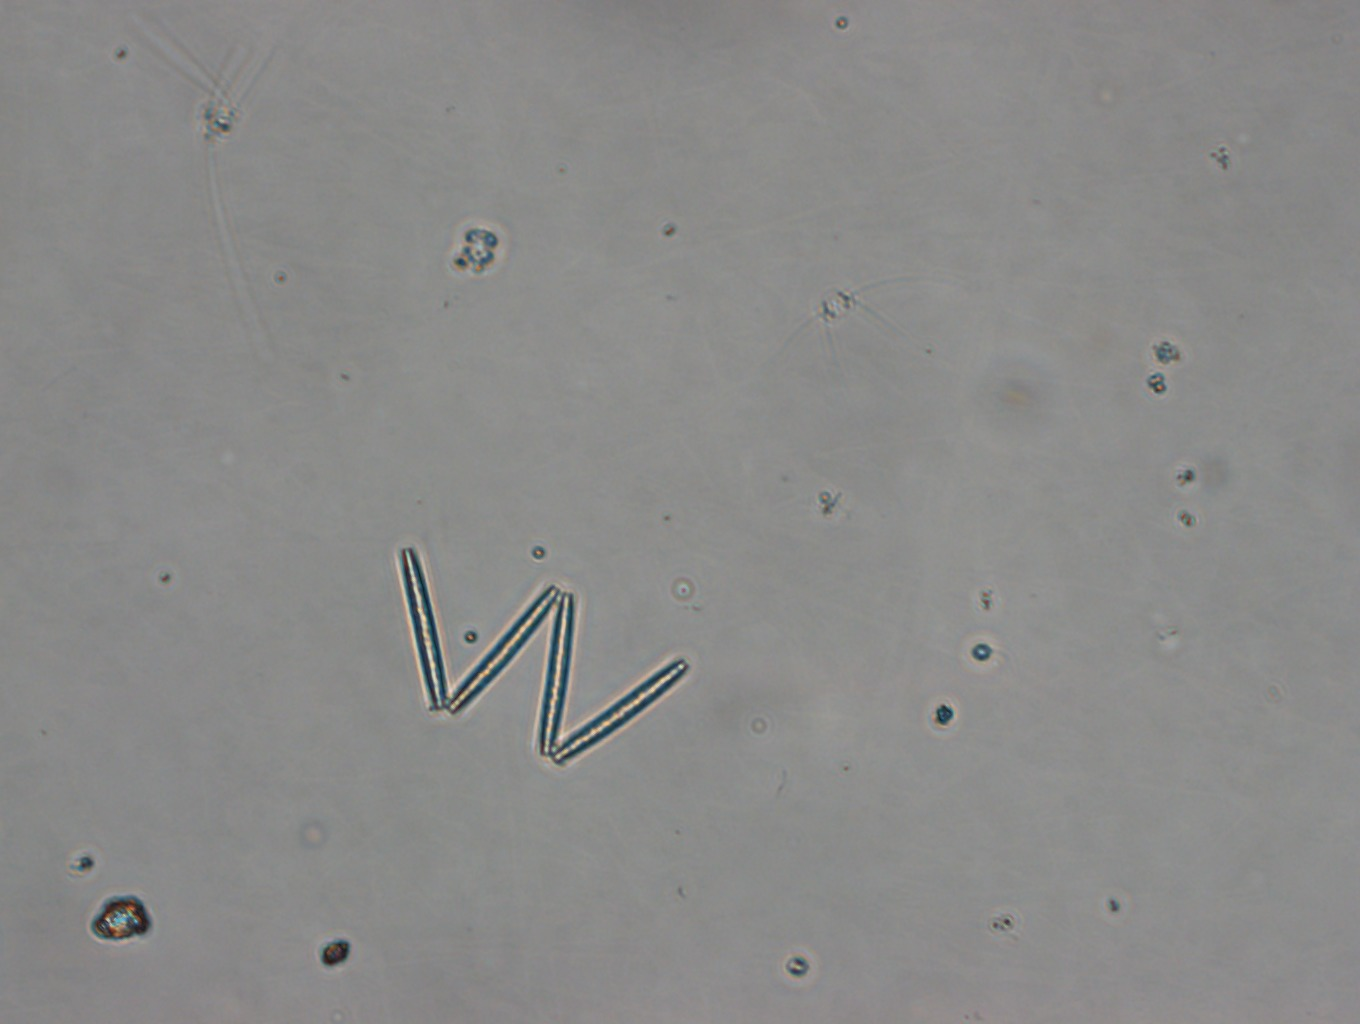thalassionema nitzschioides: (396, 536, 705, 779)
